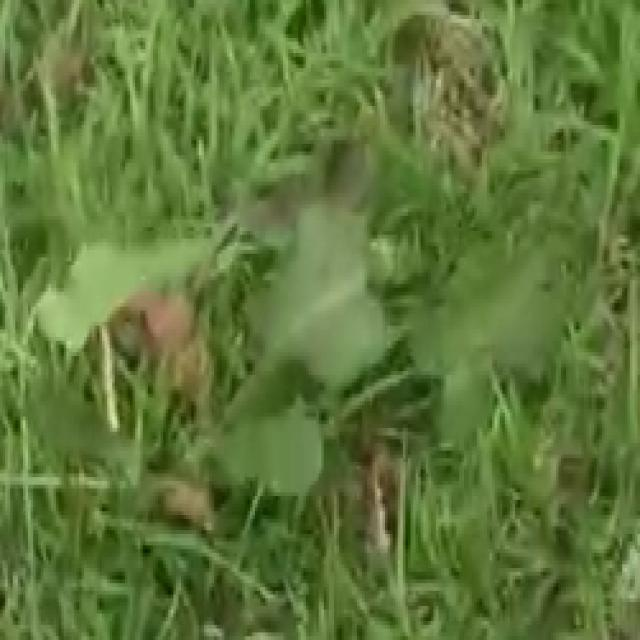organic waste: (20, 178, 607, 579)
